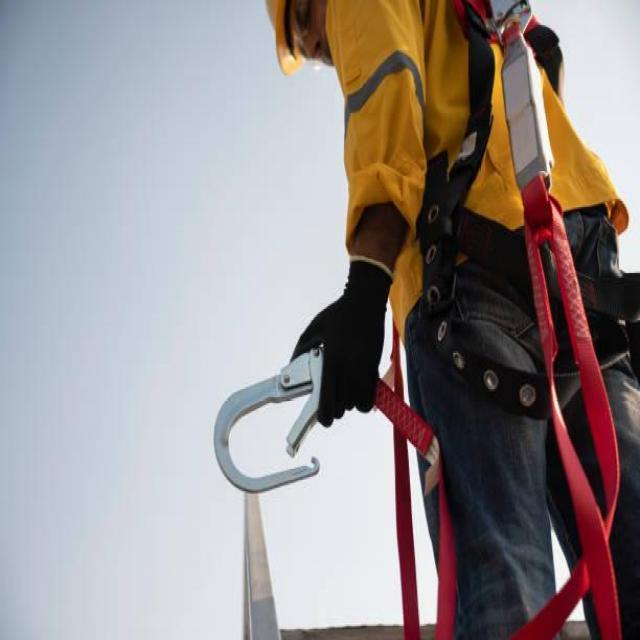belt: (412, 0, 639, 430)
